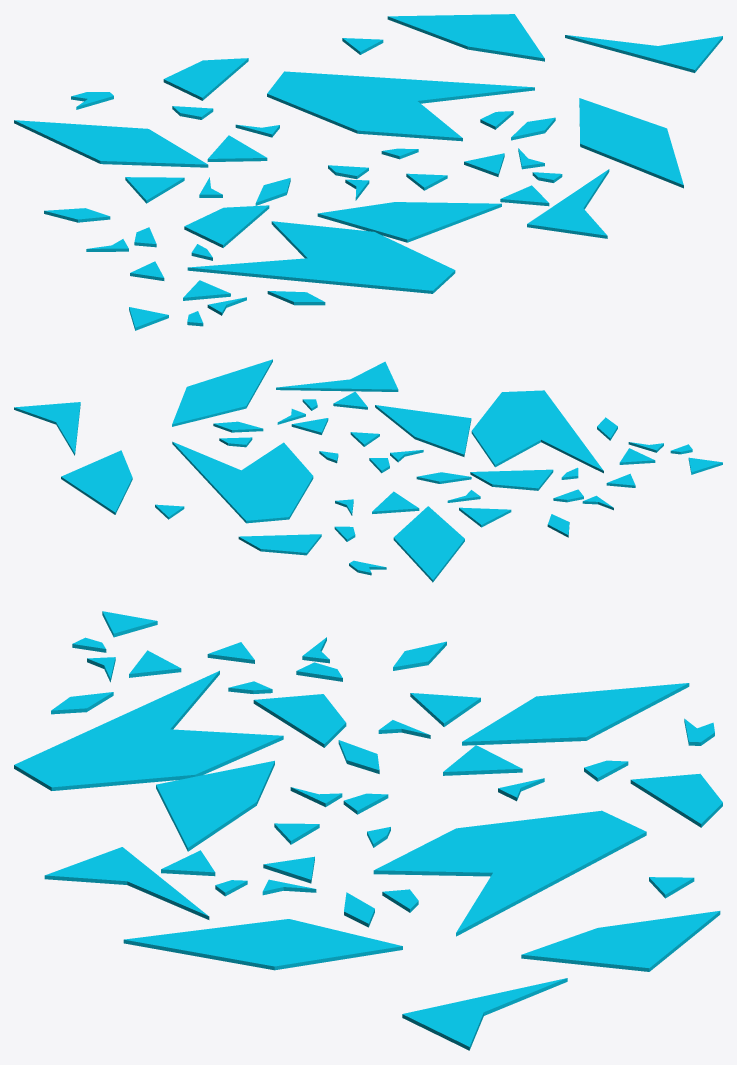
File: cristalRotoSuelo.fbx
The picture shows the model from 3 angles, top to bottom: view 1: azimuth 30°, elevation 25°; view 2: azimuth 150°, elevation 25°; view 3: azimuth 270°, elevation 25°; orthographic projection. The views are drawn at different scales.
Visible parts, largest first — view 1: cristalesRotoSuelo; view 2: cristalesRotoSuelo; view 3: cristalesRotoSuelo.
Part boxes in pixels (left/top/right/bottom): cristalesRotoSuelo: left=14, top=14, right=722, bottom=330; cristalesRotoSuelo: left=14, top=359, right=722, bottom=582; cristalesRotoSuelo: left=14, top=611, right=722, bottom=1050.
Bounding box in the file's own units: 32.47 × 0.1322 × 22.32.
